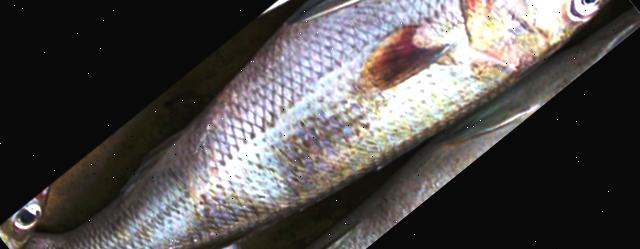Healthy Fish: (5, 0, 607, 249)
